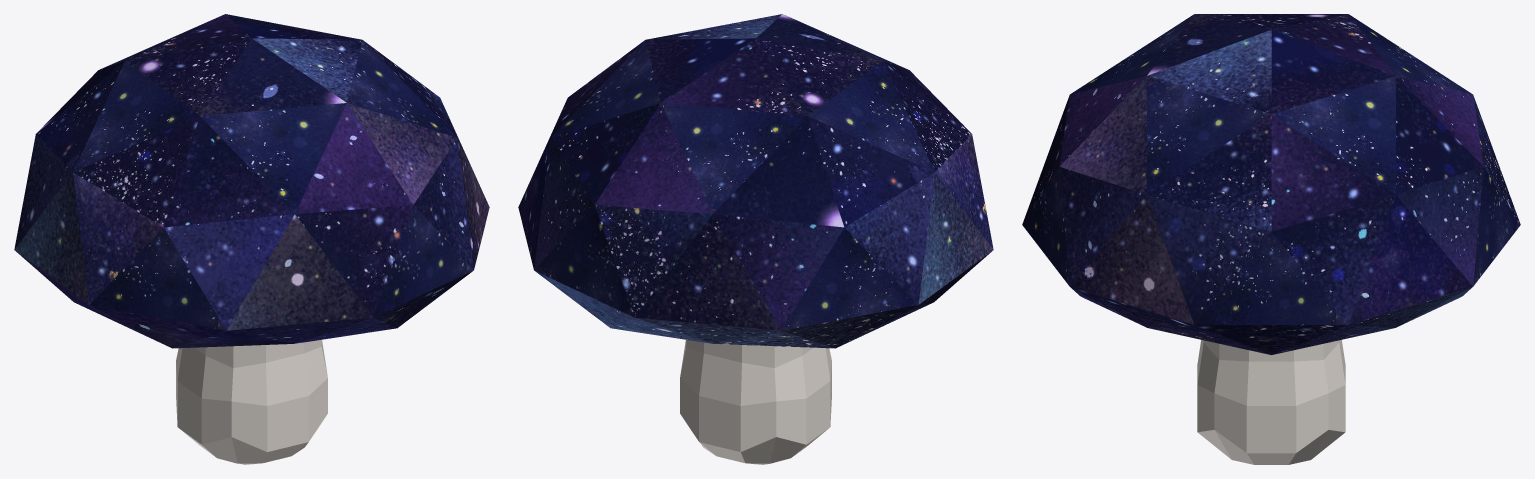
Rendered from item_kinoko.fbx.
3 views of the same model, side by side, from view 1: azimuth 30°, elevation 25°; view 2: azimuth 150°, elevation 25°; view 3: azimuth 270°, elevation 25° (orthographic). The views are drawn at different scales.
Visible parts, largest first — view 1: main, stick; view 2: main, stick; view 3: main, stick.
Boxes of the visible parts, bbox=[...] form: main: bbox=[14, 14, 489, 348]; stick: bbox=[176, 339, 327, 464]; main: bbox=[518, 14, 993, 348]; stick: bbox=[680, 339, 831, 464]; main: bbox=[1022, 14, 1520, 354]; stick: bbox=[1197, 340, 1345, 464].
Size of the model in its own units: 594 by 589 by 625.
